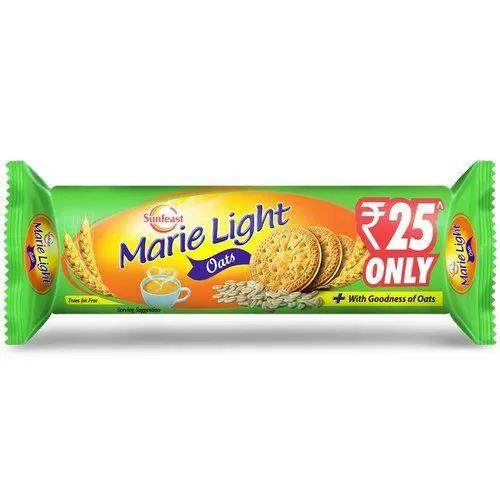MarieLight: (6, 159, 498, 349)
